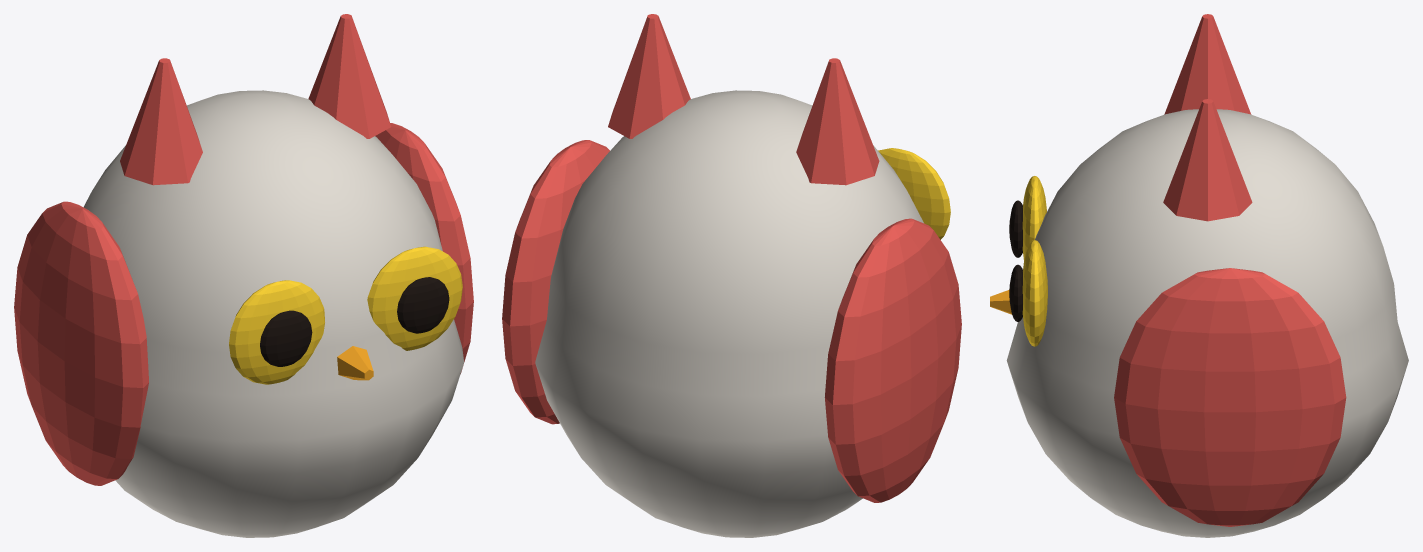
File: hoots.glb
3 views of the same model, side by side, from view 1: azimuth 30°, elevation 25°; view 2: azimuth 150°, elevation 25°; view 3: azimuth 270°, elevation 25° (orthographic). The views are drawn at different scales.
Parts seen in each view (by area): view 1: Body, Wing, Tuft, Wing.001, Tuft.001, EyeRing, EyeRing.001, Pupil.001, Pupil, Beak; view 2: Body, Wing, Wing.001, Tuft, Tuft.001, EyeRing; view 3: Body, Wing.001, Tuft.001, Tuft, EyeRing.001, EyeRing, Pupil.001, Pupil.
Part boxes in pixels (x1=…): Body: x1=83, y1=90, x2=464, y2=537; Wing: x1=14, y1=201, x2=148, y2=485; Tuft: x1=120, y1=58, x2=202, y2=185; Wing.001: x1=375, y1=123, x2=473, y2=373; Tuft.001: x1=308, y1=14, x2=391, y2=138; EyeRing: x1=229, y1=280, x2=324, y2=384; EyeRing.001: x1=367, y1=246, x2=462, y2=350; Pupil.001: x1=397, y1=277, x2=449, y2=333; Pupil: x1=260, y1=310, x2=312, y2=366; Beak: x1=337, y1=346, x2=373, y2=380; Body: x1=535, y1=90, x2=923, y2=537; Wing: x1=824, y1=218, x2=961, y2=502; Wing.001: x1=502, y1=140, x2=609, y2=424; Tuft: x1=796, y1=58, x2=879, y2=185; Tuft.001: x1=608, y1=14, x2=690, y2=138; EyeRing: x1=878, y1=148, x2=950, y2=239; Body: x1=1006, y1=109, x2=1408, y2=537; Wing.001: x1=1114, y1=268, x2=1346, y2=526; Tuft.001: x1=1163, y1=99, x2=1252, y2=221; Tuft: x1=1164, y1=14, x2=1251, y2=114; EyeRing.001: x1=1022, y1=240, x2=1047, y2=346; EyeRing: x1=1022, y1=176, x2=1046, y2=260; Pupil.001: x1=1009, y1=264, x2=1022, y2=321; Pupil: x1=1009, y1=200, x2=1022, y2=257.
Bounding box in the file's own units: 0.3824 × 0.4555 × 0.3751.
